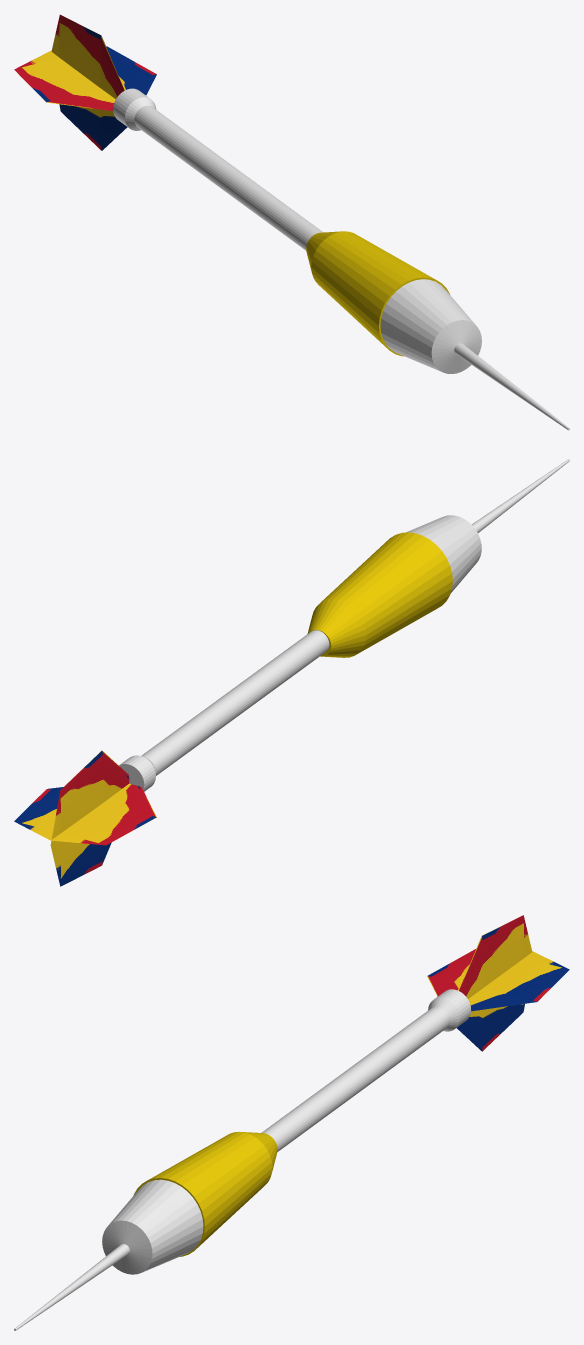
Rendered from arrow.fbx.
3 views of the same model, one above another, from view 1: azimuth 30°, elevation 25°; view 2: azimuth 150°, elevation 25°; view 3: azimuth 330°, elevation 25° (orthographic).
Parts seen in each view (by area): view 1: Cylinder, Cylinder.002, Cone.001, Cone.003; view 2: Cylinder.002, Cylinder, Cone.001, Cone.003; view 3: Cylinder, Cylinder.002, Cone.002, Cone.003.
Part boxes in pixels (x1,y1,x2,y2): Cylinder: (113,88,569,430); Cylinder.002: (306,231,449,356); Cone.001: (51,14,127,150); Cone.003: (14,46,156,110); Cylinder.002: (307,532,452,657); Cylinder: (119,459,569,791); Cone.001: (50,750,129,886); Cone.003: (14,783,156,845); Cylinder: (14,989,470,1330); Cylinder.002: (133,1131,277,1256); Cone.002: (457,915,532,1051); Cone.003: (427,949,569,1011).
Size of the model in its own units: 257 by 257 by 2090.
